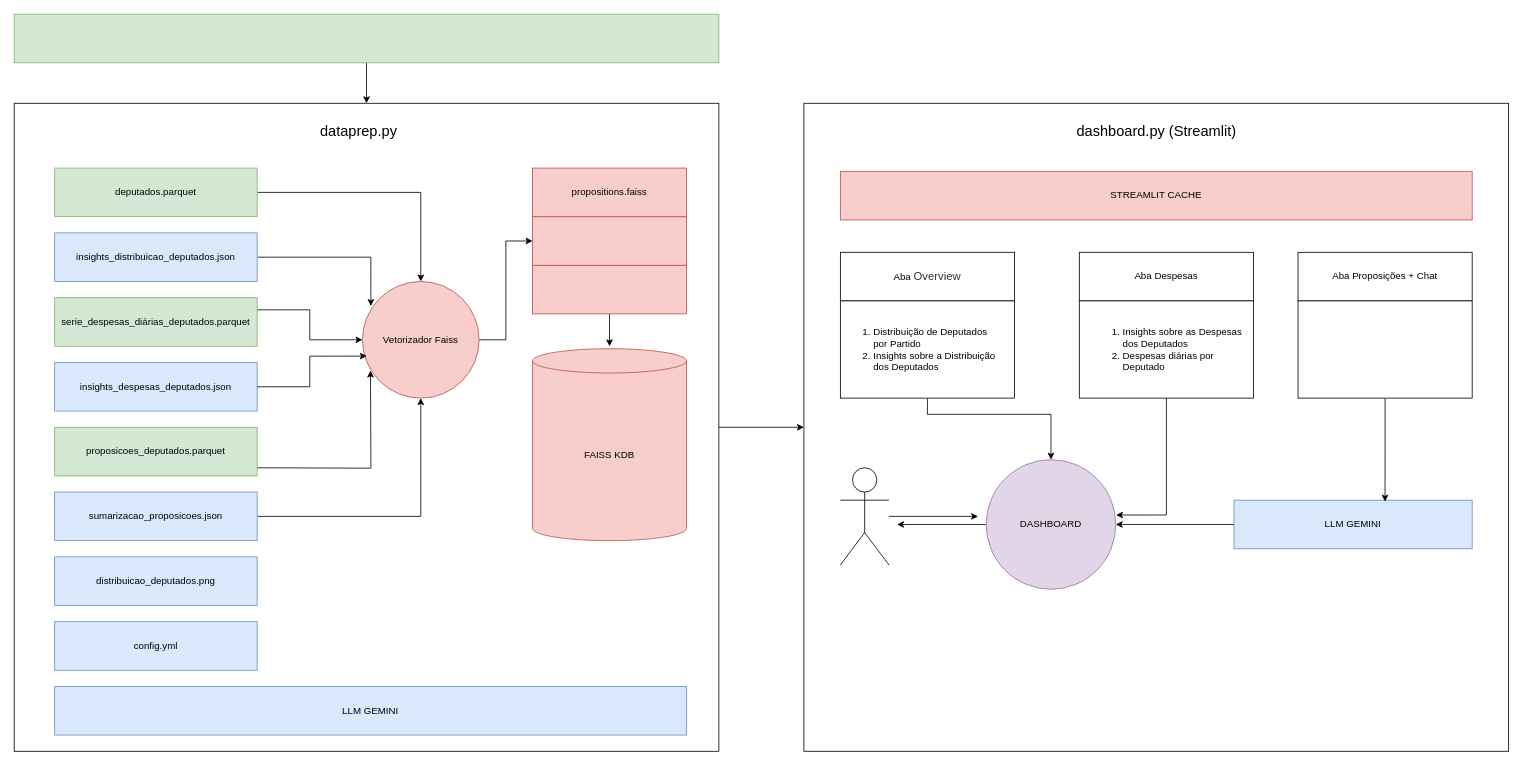
The diagram is 1523 pixels wide and 765 high, and some of its shapes have lost their labels. Each missing label, with the box of its shape:
API CÂMARA DOS DEPUTADOS: (13, 13, 719, 63)
deputados.faiss: (532, 264, 686, 314)
expenses.faiss: (532, 216, 686, 265)
Proposições em Andamento Sumarização das Proposições Chat com Especialista: (1297, 300, 1472, 398)
Usuário: (840, 467, 889, 565)
